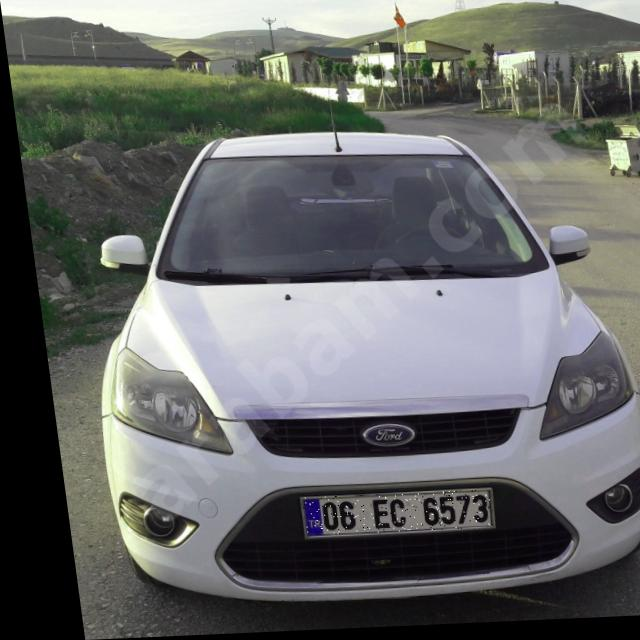license_plate: (286, 493, 478, 538)
